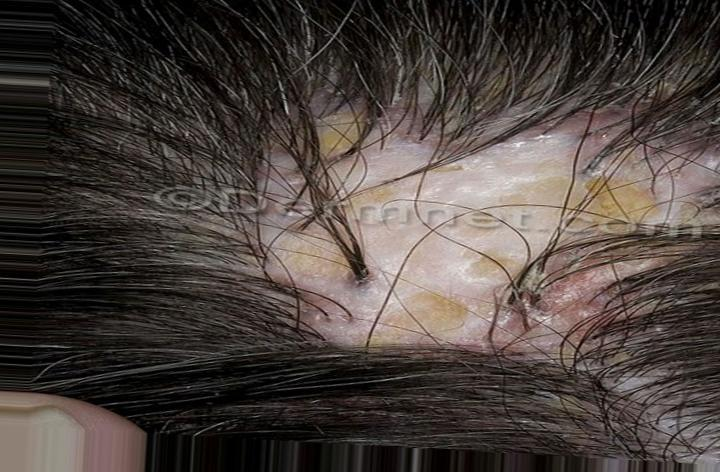Folliculitis: (259, 116, 653, 366)
